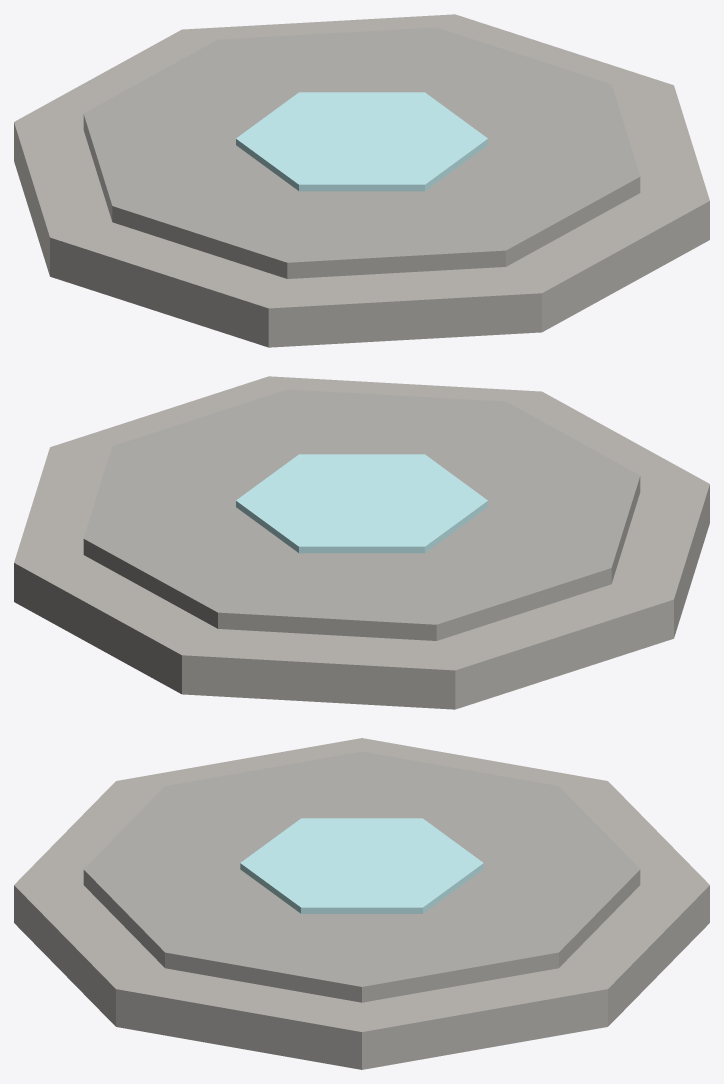
Rendered from pressure_plate.glb.
The picture shows the model from 3 angles, top to bottom: view 1: azimuth 30°, elevation 25°; view 2: azimuth 150°, elevation 25°; view 3: azimuth 270°, elevation 25°; orthographic projection. The views are drawn at different scales.
Visible parts, largest first — view 1: pressure_plate; view 2: pressure_plate; view 3: pressure_plate.
Boxes of the visible parts, x1,y1,x2,y2 form: pressure_plate: [14, 14, 709, 347]; pressure_plate: [14, 376, 709, 709]; pressure_plate: [14, 738, 709, 1069].
Size of the model in its own units: 2 by 0.1899 by 2.
